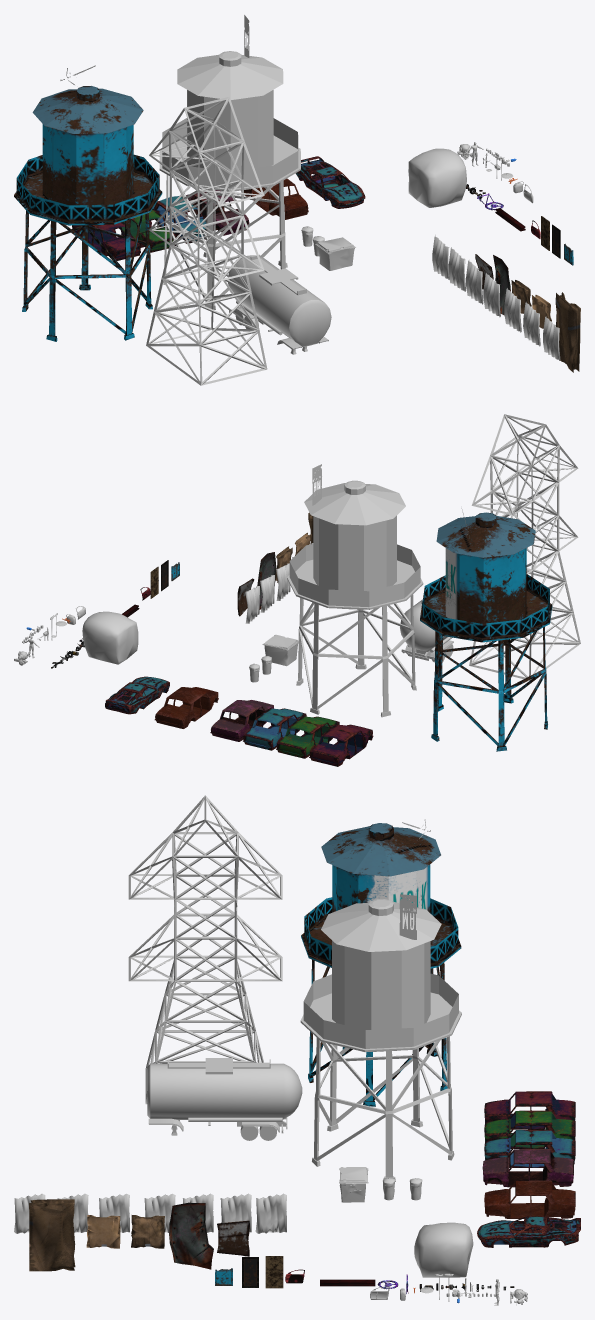
Rendered from AllProps.fbx.
3 renders of one model, top to bottom at view 1: azimuth 30°, elevation 25°; view 2: azimuth 150°, elevation 25°; view 3: azimuth 270°, elevation 25°, orthographic. The views are drawn at different scales.
Parts seen in each view (by area): view 1: Watertower.001, Watertower, ElectricTower01, GasTrailer, Trash01, car cyberpunk, Cardboard02, RustedCar01.005, RustedCar01, Square Container, RustedCar01.004, RustedCar01.002 (+9 smaller); view 2: Watertower, Watertower.001, ElectricTower01, Trash01, RustedCar01.005, RustedCar01, car cyberpunk, RustedCar01.003, RustedCar01.004, RustedCar01.002, GasTrailer, Square Container (+1 smaller); view 3: Watertower, ElectricTower01, Watertower.001, GasTrailer, Cardboard02, Trash01, car cyberpunk, RustedCar01, RustedCar01.002, metalsheet01, RustedCar01.005, RustedCar01.004 (+10 smaller).
Part boxes in pixels (x1,y1,x2,y2): Watertower.001: (14, 65, 162, 341); Watertower: (159, 15, 300, 309); ElectricTower01: (146, 96, 267, 385); GasTrailer: (228, 254, 331, 354); Trash01: (408, 148, 466, 207); car cyberpunk: (295, 156, 365, 208); Cardboard02: (555, 292, 580, 372); RustedCar01.005: (72, 222, 140, 260); RustedCar01: (244, 178, 308, 219); Square Container: (315, 237, 355, 270); RustedCar01.004: (115, 209, 176, 252); RustedCar01.002: (186, 190, 249, 235); Watertower: (287, 464, 423, 717); Watertower.001: (420, 508, 552, 751); ElectricTower01: (469, 414, 580, 680); Trash01: (82, 611, 138, 664); RustedCar01.005: (309, 724, 373, 766); RustedCar01: (154, 687, 218, 728); car cyberpunk: (105, 676, 169, 714); RustedCar01.003: (243, 708, 306, 750); RustedCar01.004: (276, 716, 339, 758); RustedCar01.002: (210, 700, 273, 741); GasTrailer: (400, 599, 453, 662); Square Container: (262, 634, 298, 666); Watertower: (300, 894, 461, 1181); ElectricTower01: (128, 795, 282, 1104); Watertower.001: (301, 819, 461, 1106); GasTrailer: (147, 1058, 302, 1140); Cardboard02: (29, 1199, 75, 1271); Trash01: (414, 1222, 473, 1277); car cyberpunk: (477, 1216, 580, 1247); RustedCar01: (484, 1180, 575, 1218); RustedCar01.002: (482, 1149, 573, 1187); metalsheet01: (169, 1202, 213, 1269); RustedCar01.005: (484, 1091, 575, 1129); RustedCar01.004: (484, 1110, 575, 1148).
Bounding box in the file's own units: 4926 × 2519 × 4198.
